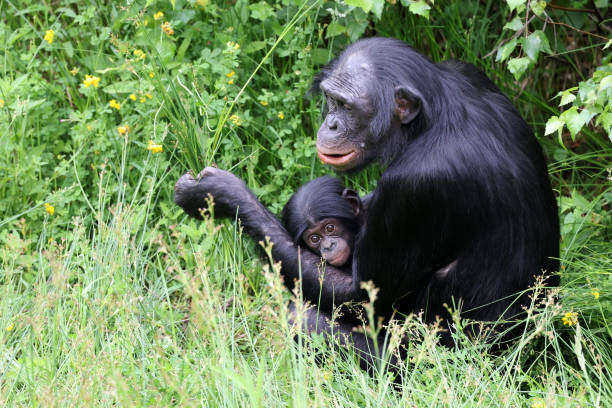chimpanzee: (294, 31, 461, 176), (278, 176, 383, 273)
